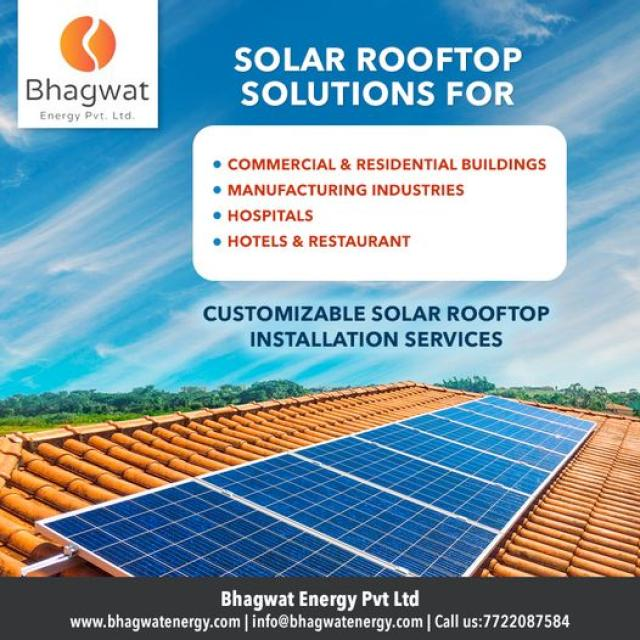clean-solar-panel: (39, 396, 595, 575)
